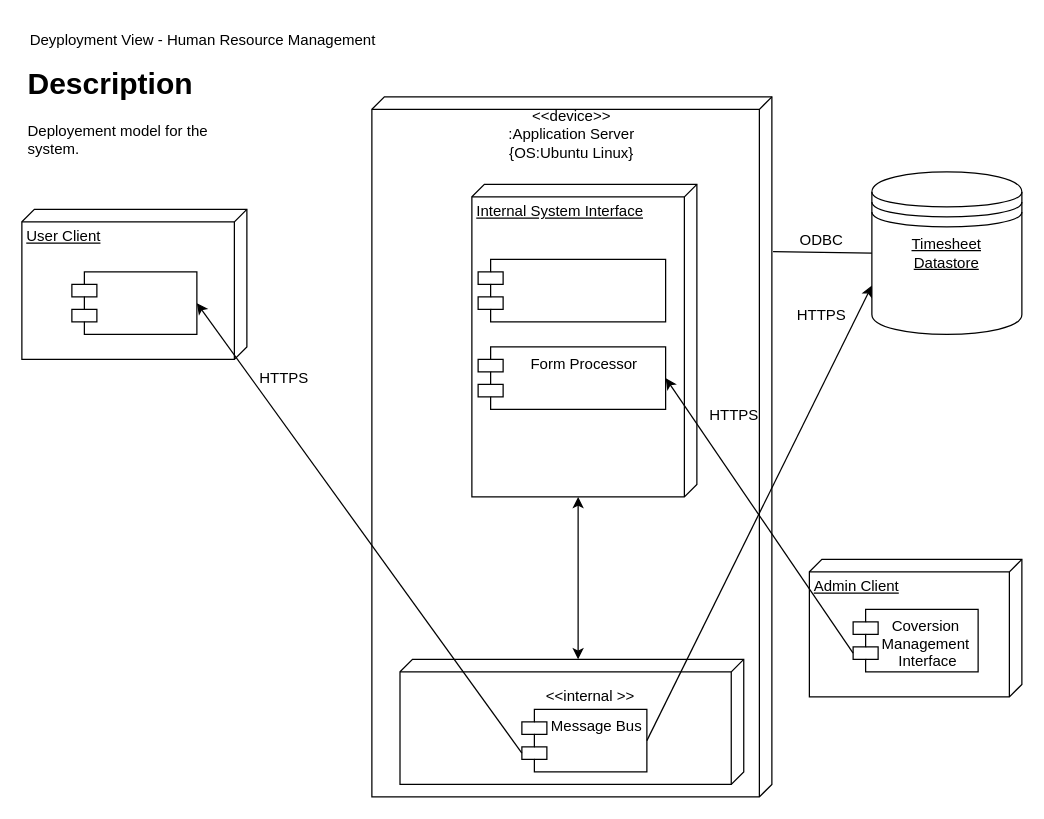
Some shapes in this 1044 by 819 pixel diagram are drawn without their labels. Here are the shapes that lost their labels. From the top down, the box of each, then its label:
(871, 171, 1022, 334): {{OS=Windows, vendor=Microsoft}}
(71, 271, 197, 334): Web Browser
(477, 258, 666, 322): Human Resources Web Application
